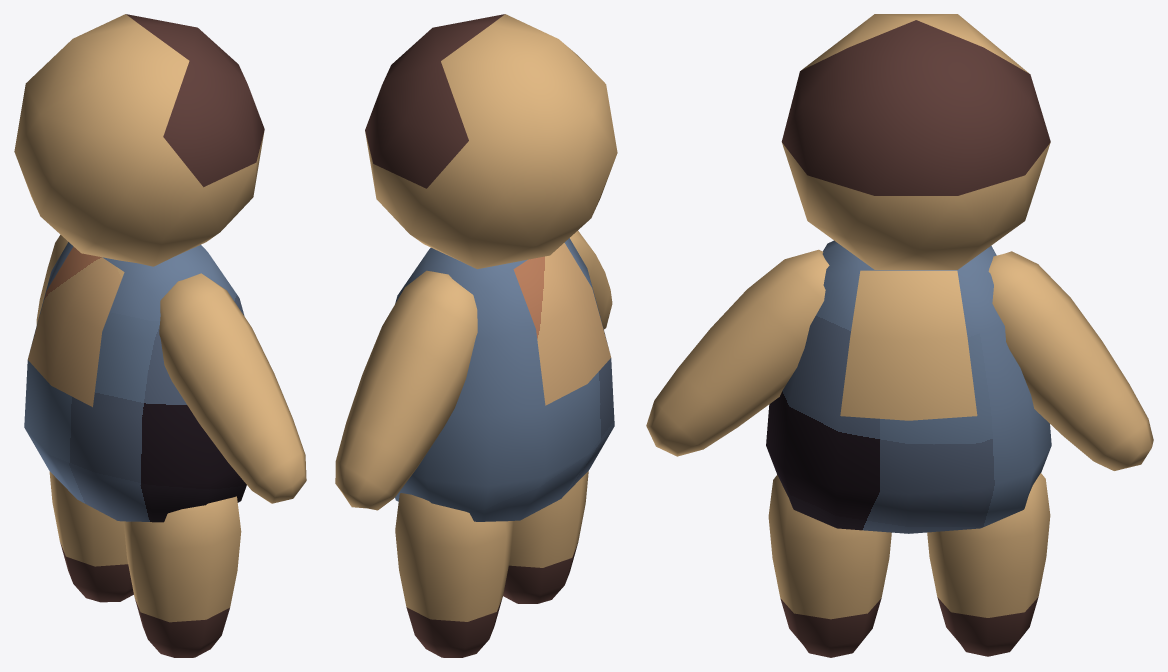
The model's file is Human.fbx.
3 renders of one model, left to right at view 1: azimuth 30°, elevation 25°; view 2: azimuth 150°, elevation 25°; view 3: azimuth 270°, elevation 25°, orthographic. The views are drawn at different scales.
Parts seen in each view (by area): view 1: Head, Torso, Arm, Leg.001, Leg, Arm.001; view 2: Head, Torso, Arm.001, Leg, Leg.001, Arm; view 3: Torso, Head, Arm, Arm.001, Leg.001, Leg.
Boxes of the visible parts, box(x1,y1,x2,y2) form: Head: box(14, 14, 264, 266); Torso: box(24, 242, 246, 522); Arm: box(159, 273, 306, 503); Leg.001: box(123, 496, 241, 657); Leg: box(49, 471, 133, 602); Arm.001: box(36, 235, 68, 324); Head: box(365, 14, 617, 269); Torso: box(395, 238, 614, 521); Arm.001: box(335, 270, 477, 510); Leg: box(395, 493, 513, 657); Leg.001: box(503, 471, 588, 603); Arm: box(570, 231, 612, 329); Torso: box(766, 240, 1051, 533); Head: box(781, 14, 1050, 269); Arm: box(646, 249, 829, 456); Arm.001: box(988, 251, 1153, 470); Leg.001: box(768, 475, 891, 657); Leg: box(927, 473, 1050, 656).
Size of the model in its own units: 51.43 by 140 by 102.
1 material, 1 textured.
